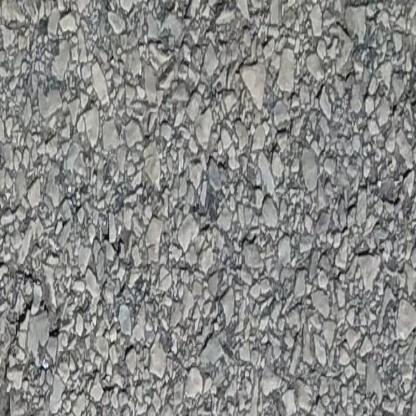Cracks: (223, 0, 287, 416), (1, 404, 31, 416)
